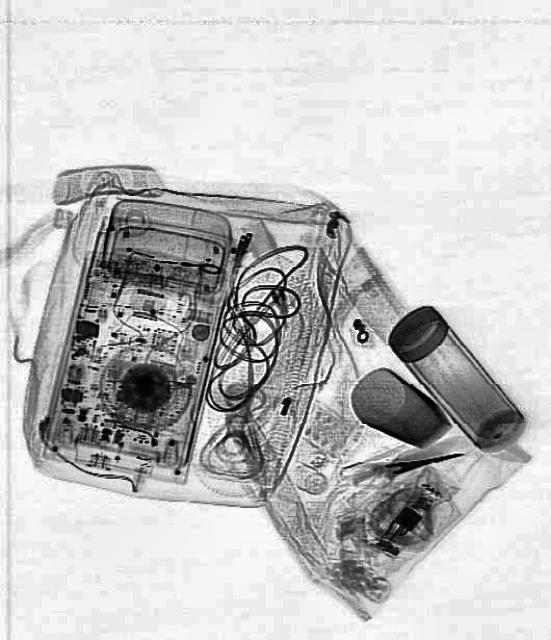Knife: (384, 446, 464, 476)
